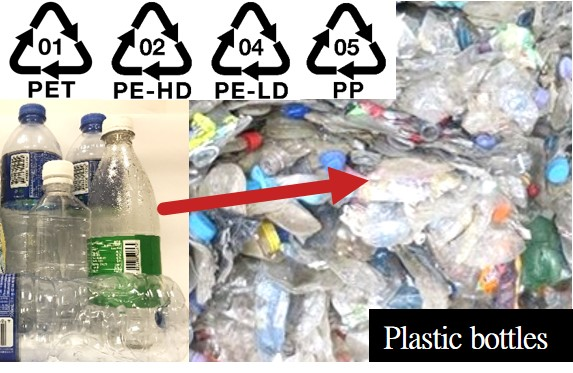plastic_bottle: (56, 34, 199, 329), (1, 258, 278, 363), (3, 79, 101, 329), (72, 116, 181, 307), (22, 141, 107, 344)
